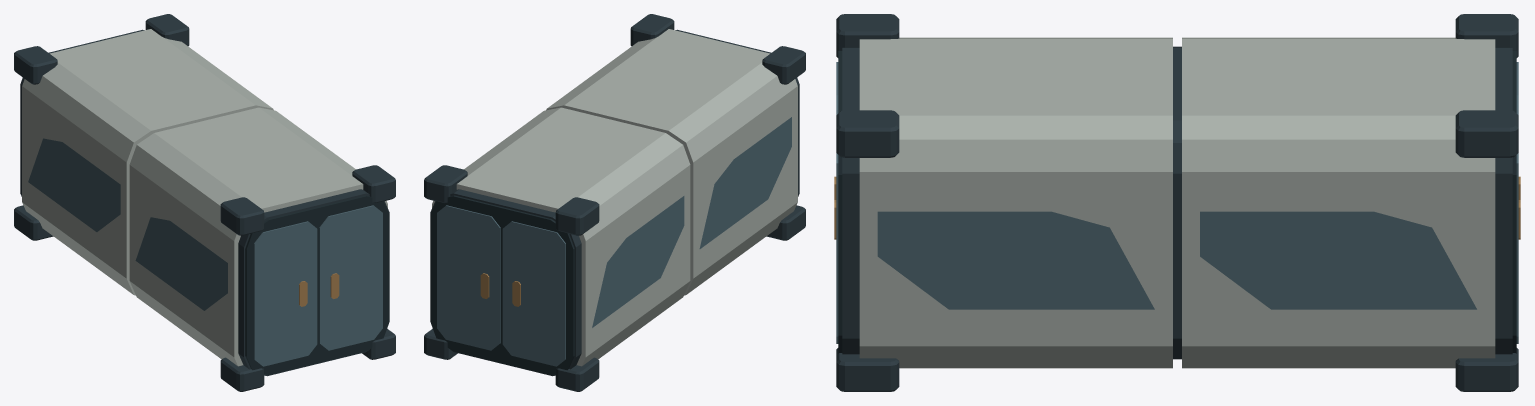
Rendered from HM-07_short_box.glb.
3 renders of one model, left to right at view 1: azimuth 30°, elevation 25°; view 2: azimuth 150°, elevation 25°; view 3: azimuth 270°, elevation 25°, orthographic. The views are drawn at different scales.
Visible parts, largest first — view 1: HM-07_short_box; view 2: HM-07_short_box; view 3: HM-07_short_box.
Part boxes in pixels (box(x1,y1,x2,y2)): HM-07_short_box: box(14, 14, 395, 391); HM-07_short_box: box(424, 14, 805, 391); HM-07_short_box: box(834, 14, 1520, 391).
Bounding box in the file's own units: 2.44 × 2.59 × 6.1.
